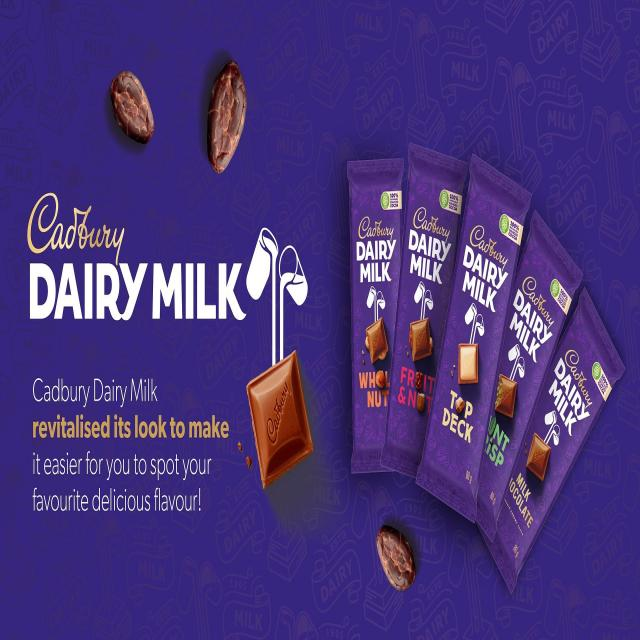cadbury: (479, 287, 636, 586), (446, 211, 586, 543), (426, 155, 534, 507), (390, 144, 468, 488), (351, 155, 398, 468)
